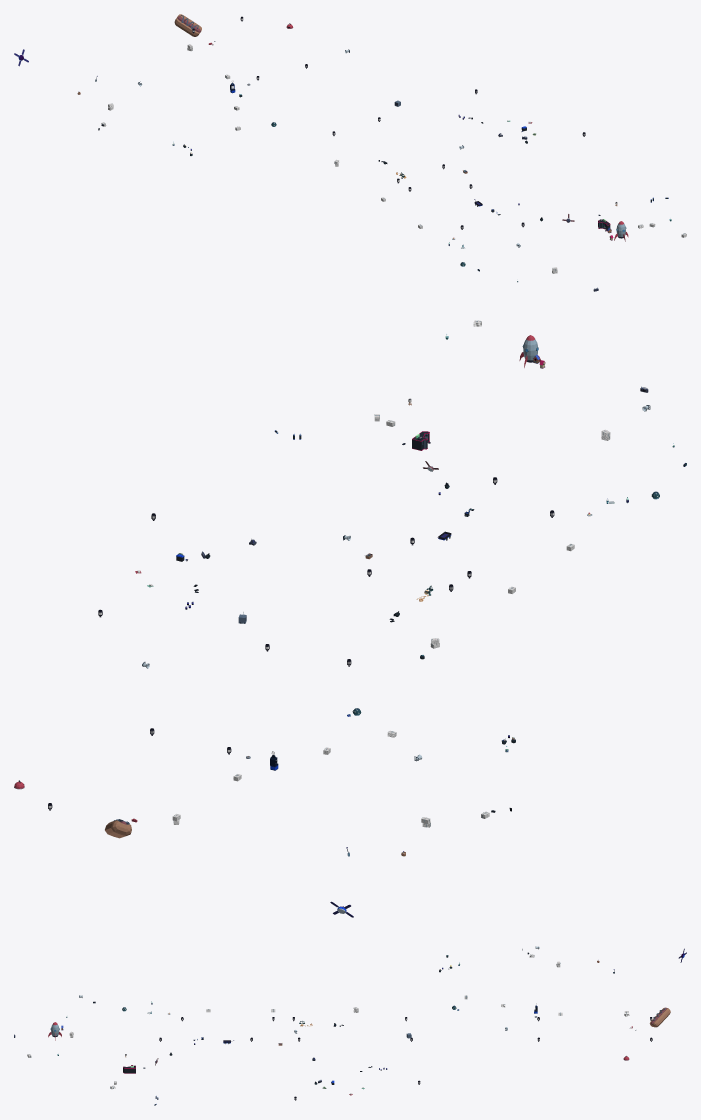
The model's file is EXT_BigCityx2_Theftables.fbx.
3 renders of one model, top to bottom at view 1: azimuth 30°, elevation 25°; view 2: azimuth 150°, elevation 25°; view 3: azimuth 270°, elevation 25°, orthographic. The views are drawn at different scales.
Bounding box in the file's own units: 12417 × 1558 × 23016.
